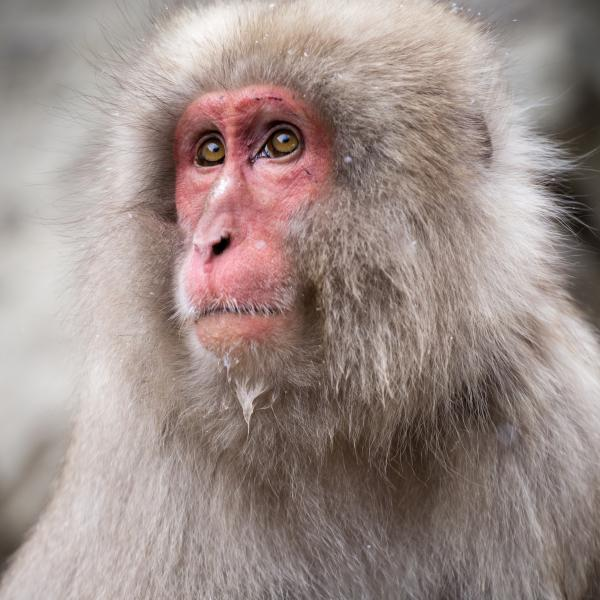monkey: (45, 0, 600, 600)
